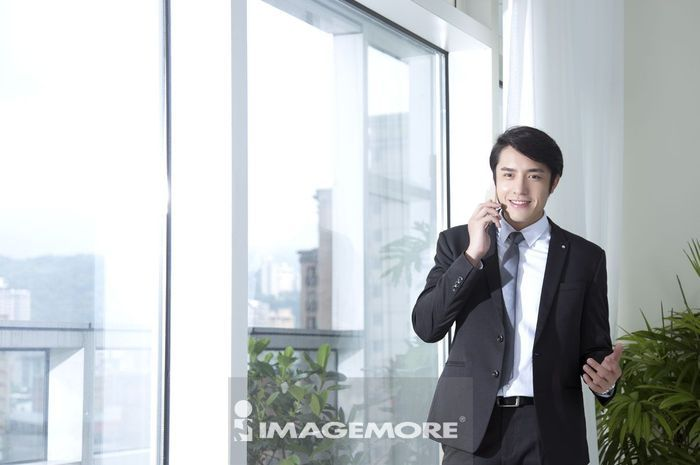talk: (465, 163, 549, 258)
